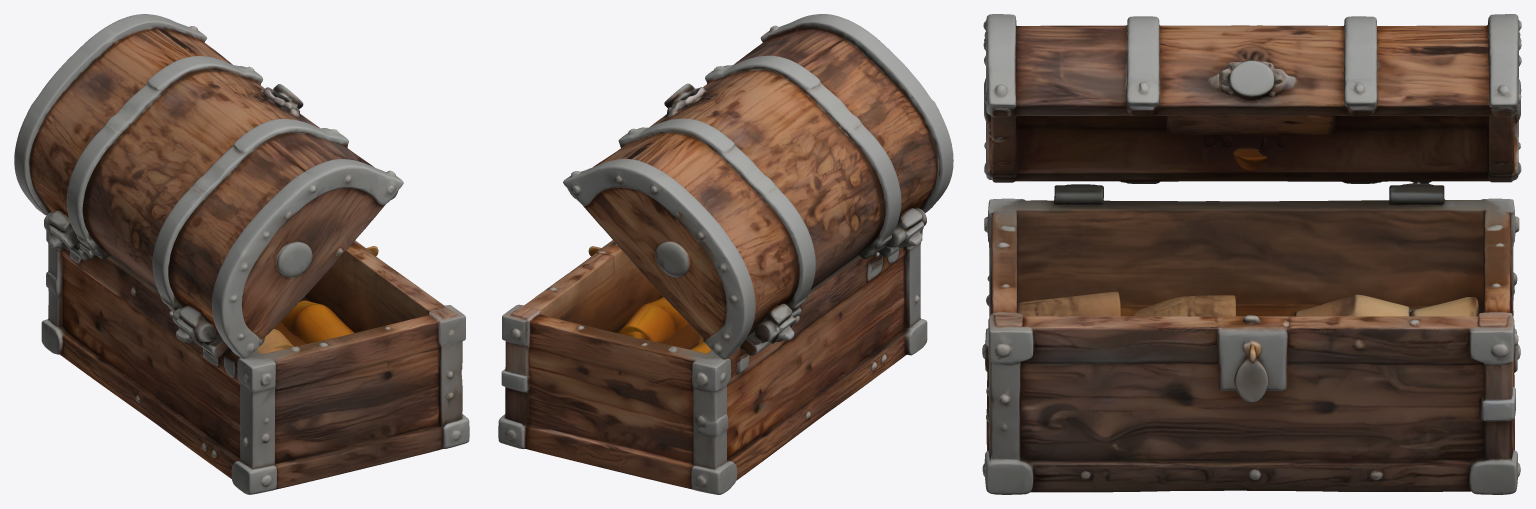
Rendered from prop-chest-wooden.glb.
3 renders of one model, left to right at view 1: azimuth 30°, elevation 25°; view 2: azimuth 150°, elevation 25°; view 3: azimuth 270°, elevation 25°, orthographic. The views are drawn at different scales.
Parts seen in each view (by area): view 1: tripo_node_67199774-5322-43e1-aa68-52ddc3415e7e; view 2: tripo_node_67199774-5322-43e1-aa68-52ddc3415e7e; view 3: tripo_node_67199774-5322-43e1-aa68-52ddc3415e7e.
Boxes of the visible parts, x1,y1,x2,y2 form: tripo_node_67199774-5322-43e1-aa68-52ddc3415e7e: [14, 14, 469, 494]; tripo_node_67199774-5322-43e1-aa68-52ddc3415e7e: [498, 14, 953, 494]; tripo_node_67199774-5322-43e1-aa68-52ddc3415e7e: [982, 14, 1521, 494].
Bounding box in the file's own units: 0.8959 × 1 × 1.24.
Materials: 1 (1 with a texture image).
